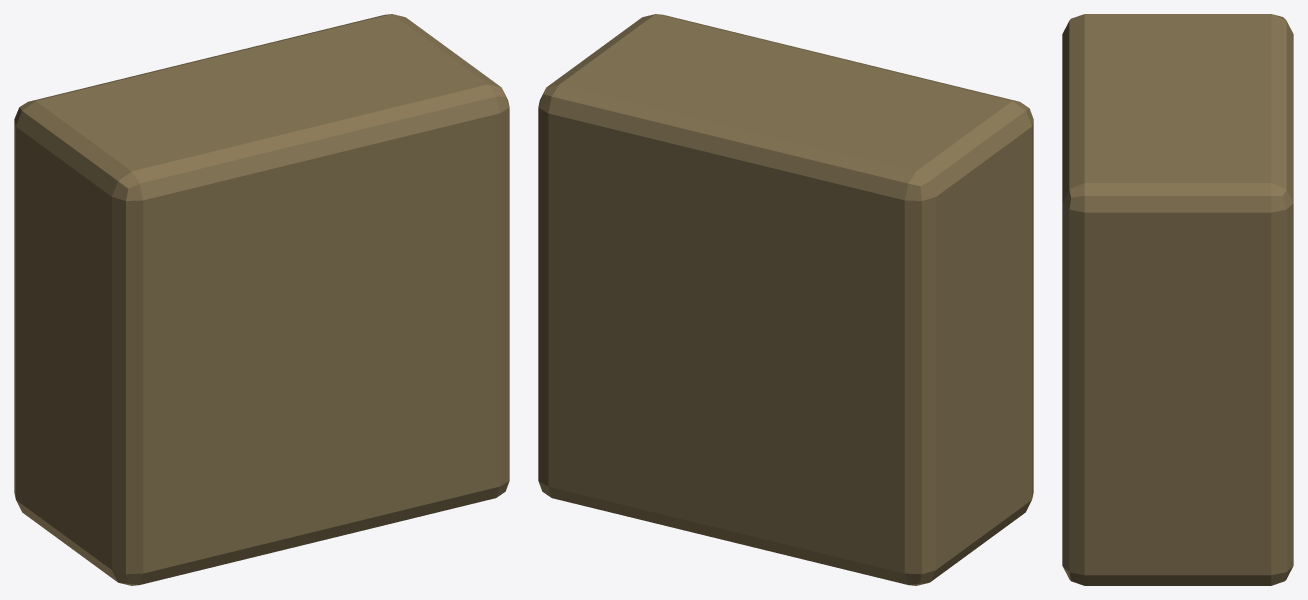
File: SM_Platform_1m_Half_01_B.fbx
3 views of the same model, side by side, from view 1: azimuth 30°, elevation 25°; view 2: azimuth 150°, elevation 25°; view 3: azimuth 270°, elevation 25° (orthographic). The views are drawn at different scales.
Visible parts, largest first — view 1: polySurface72; view 2: polySurface72; view 3: polySurface72.
Part boxes in pixels (x1=…): polySurface72: x1=14, y1=14, x2=509, y2=585; polySurface72: x1=538, y1=14, x2=1033, y2=585; polySurface72: x1=1062, y1=14, x2=1293, y2=585.
Size of the model in its own units: 100 by 100 by 52.
